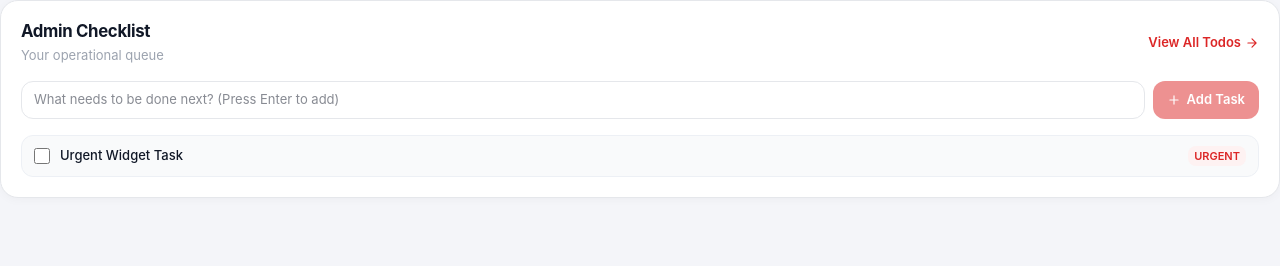
Test case: AdminTodoWidget › renders widget and handles quick add and toggle for admin
The width and height of the screenshot is (1280, 266).
Expected: the heading "Admin Checklist" is shown, [21,21,164,42]
Expected: the text "View All Todos" is shown, [1148,34,1241,53]
In the field with placeholder "What needs to be done next? (Press Enter to add)": (583, 100) [21,82,1145,119], type "Another Widget Task"
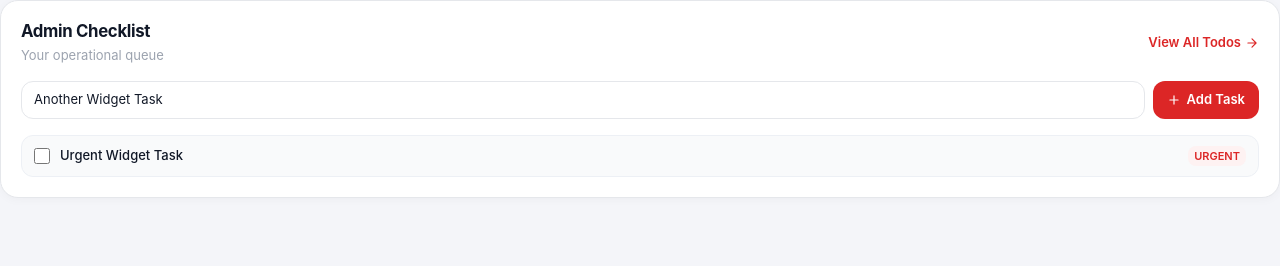
Click the button "Add Task": (1206, 100) [1153,82,1259,119]
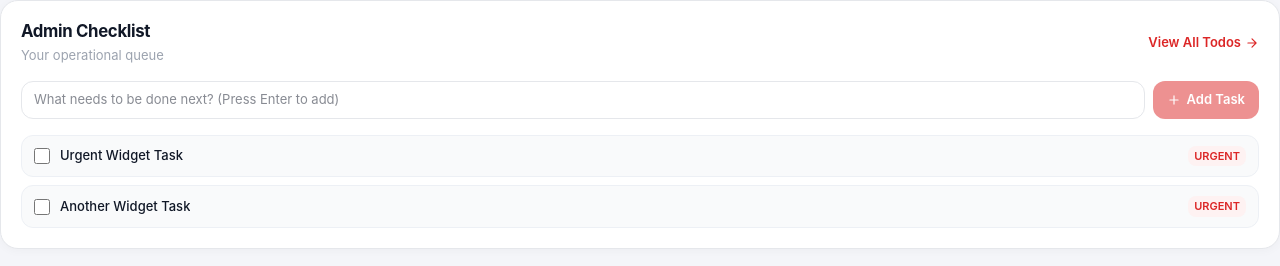
Expected: the text "Another Widget Task" is shown, [60,197,190,216]
